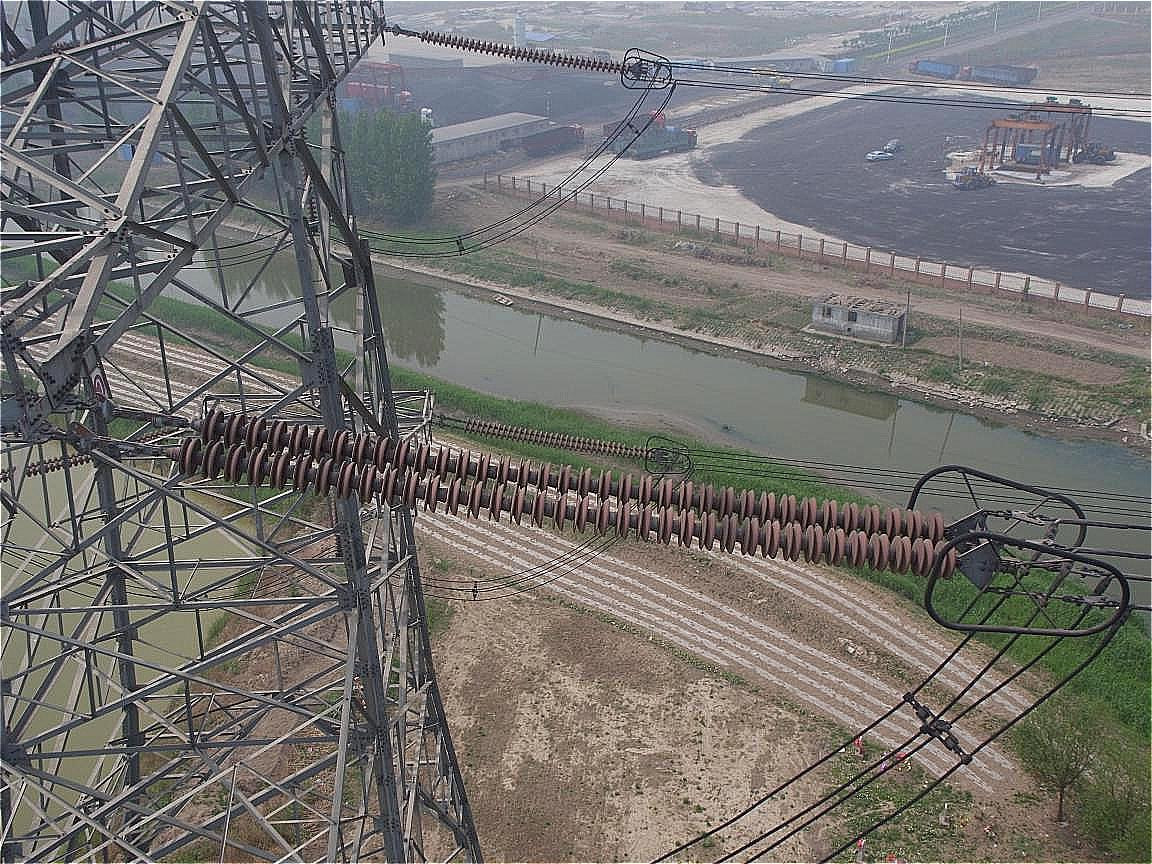insultor1: (419, 27, 633, 79)
insultor2: (178, 408, 959, 579)
